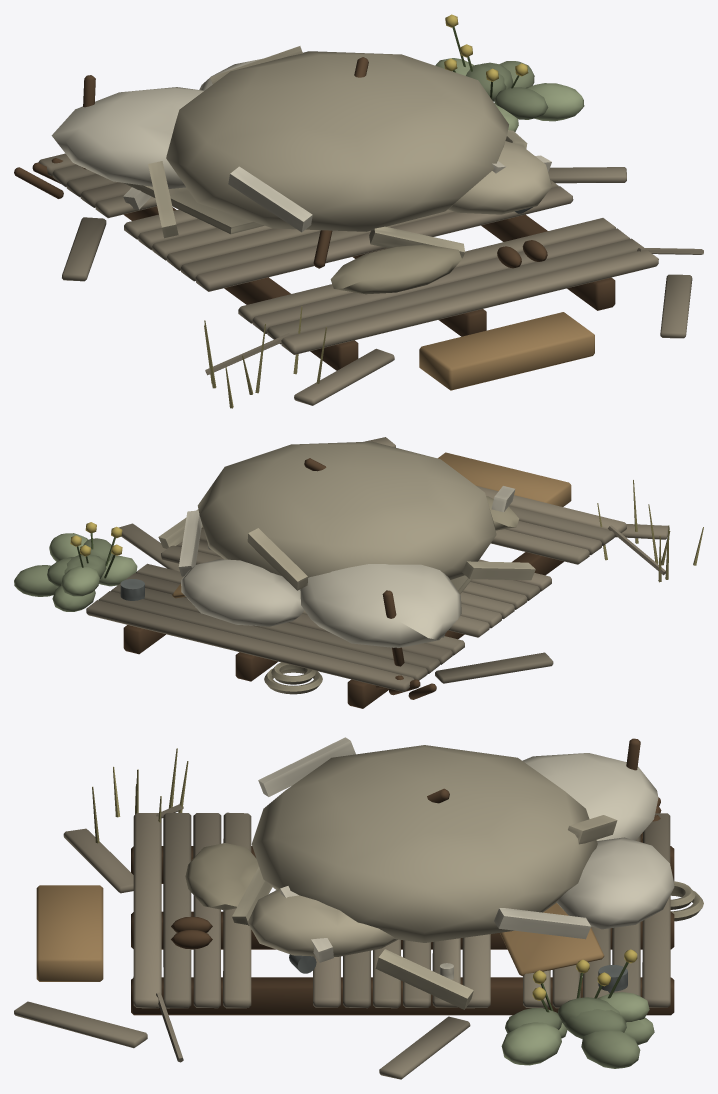
The model's file is survey_tent_b.glb.
The picture shows the model from 3 angles, top to bottom: view 1: azimuth 30°, elevation 25°; view 2: azimuth 150°, elevation 25°; view 3: azimuth 270°, elevation 25°; orthographic projection. The views are drawn at different scales.
Parts seen in each view (by area): view 1: Surface; view 2: Surface; view 3: Surface.
Part boxes in pixels (x1=…): Surface: x1=14, y1=14, x2=703, y2=408; Surface: x1=14, y1=437, x2=703, y2=708; Surface: x1=14, y1=737, x2=703, y2=1079.
Size of the model in its own units: 9.02 by 2.6 by 9.34.
